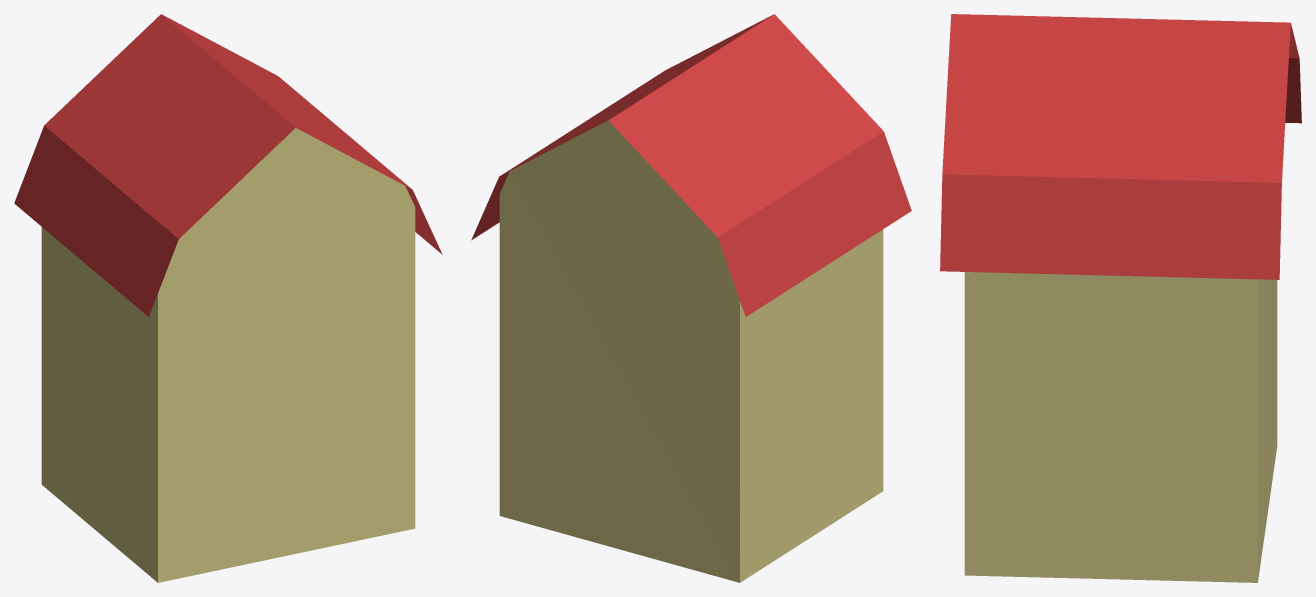
The picture shows the model from 3 angles, left to right: view 1: azimuth 30°, elevation 25°; view 2: azimuth 150°, elevation 25°; view 3: azimuth 270°, elevation 25°; orthographic projection. The views are drawn at different scales.
Visible parts, largest first — view 1: group_5, group_3, group_4; view 2: group_5, group_3, group_4; view 3: group_5, group_3, group_4.
Part boxes in pixels (box(x1,y1,x2,y2)): group_5: box(41, 128, 415, 582); group_3: box(42, 14, 442, 316); group_4: box(14, 14, 441, 316); group_5: box(499, 120, 883, 582); group_3: box(471, 14, 911, 315); group_4: box(499, 15, 911, 316); group_5: box(964, 272, 1277, 582); group_3: box(940, 14, 1301, 279); group_4: box(940, 14, 1284, 279).
Size of the model in its own units: 12.63 by 11.68 by 17.54.
